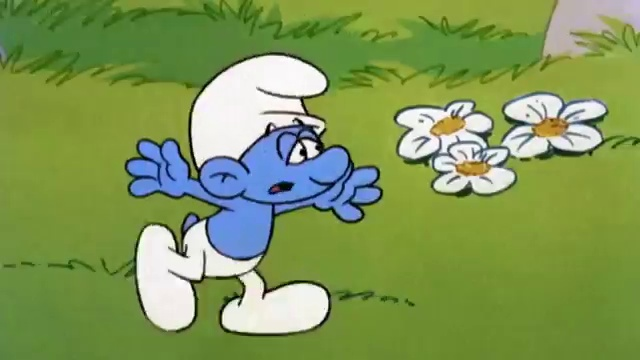smurf: (125, 50, 385, 339)
